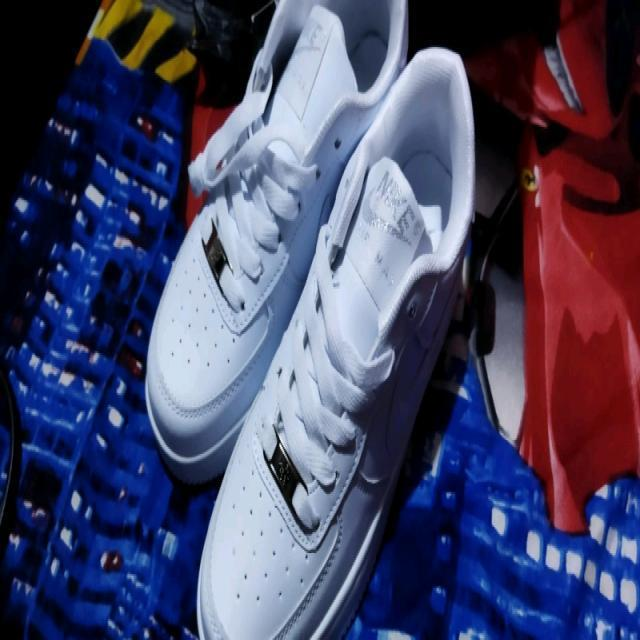nike fake air force: (193, 45, 513, 640), (139, 0, 412, 483)
